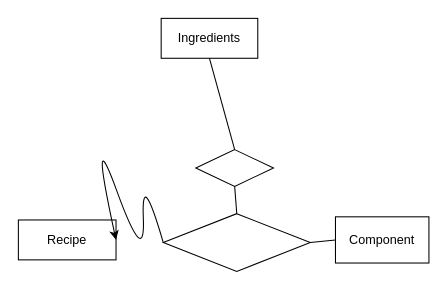
This 447x290 diagram has some shape labels left out. Here are the shapes that lost their labels. From the top down, the centre of each, then its label:
(x=234, y=167): In
(x=236, y=242): ComponentOf
